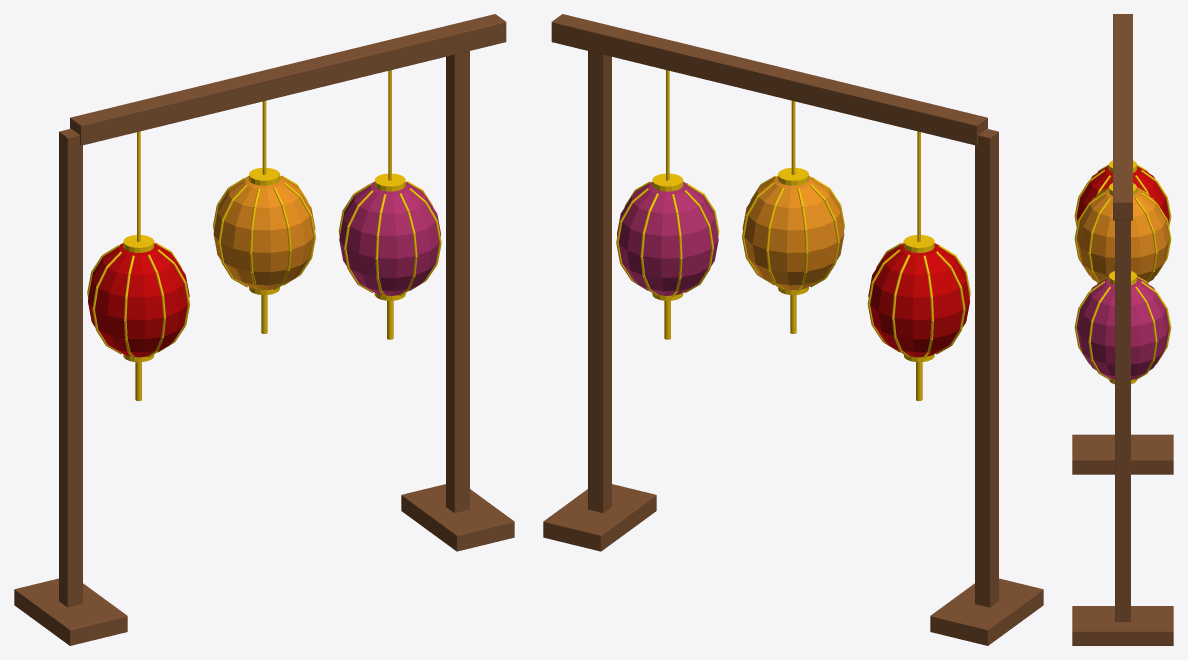
File: source-edit.glb
The picture shows the model from 3 angles, left to right: view 1: azimuth 30°, elevation 25°; view 2: azimuth 150°, elevation 25°; view 3: azimuth 270°, elevation 25°; orthographic projection. The views are drawn at different scales.
Parts seen in each view (by area): view 1: Crossbar, Post, Post.001, Lantern_1_Body, Lantern_0_Body, Lantern_2_Body, Foot, Foot.001; view 2: Crossbar, Post, Post.001, Lantern_1_Body, Lantern_0_Body, Lantern_2_Body, Foot, Foot.001; view 3: Post.001, Lantern_2_Body, Lantern_1_Body, Crossbar, Foot.001, Foot, Lantern_0_Body.
Part boxes in pixels (x1,y1,x2,y2): Crossbar: (70,14,506,145); Post: (59,129,82,607); Post.001: (446,51,469,512); Lantern_1_Body: (213,176,315,289); Lantern_0_Body: (88,243,189,357); Lantern_2_Body: (339,182,440,295); Foot: (14,578,127,645); Foot.001: (401,484,514,551); Crossbar: (551,14,987,145); Post: (975,129,998,607); Post.001: (588,51,611,512); Lantern_1_Body: (742,176,844,289); Lantern_0_Body: (868,243,969,357); Lantern_2_Body: (617,182,718,295); Foot: (930,578,1043,645); Foot.001: (543,484,656,551); Post.001: (1115,220,1130,621); Lantern_2_Body: (1076,278,1169,379); Lantern_1_Body: (1076,189,1169,281); Crossbar: (1113,14,1132,220); Foot.001: (1072,606,1173,645); Foot: (1072,434,1173,474); Lantern_0_Body: (1076,166,1169,221).
Bounding box in the file's own units: 2.37 × 2.45 × 0.5.
